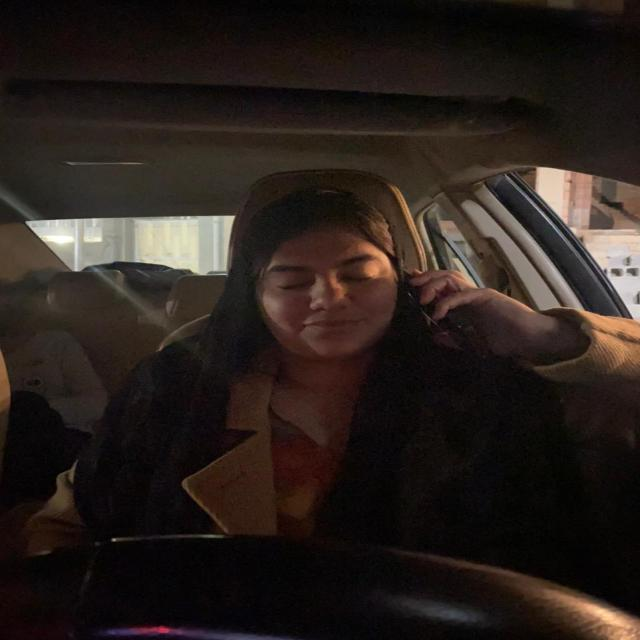phone: (395, 262, 468, 354)
